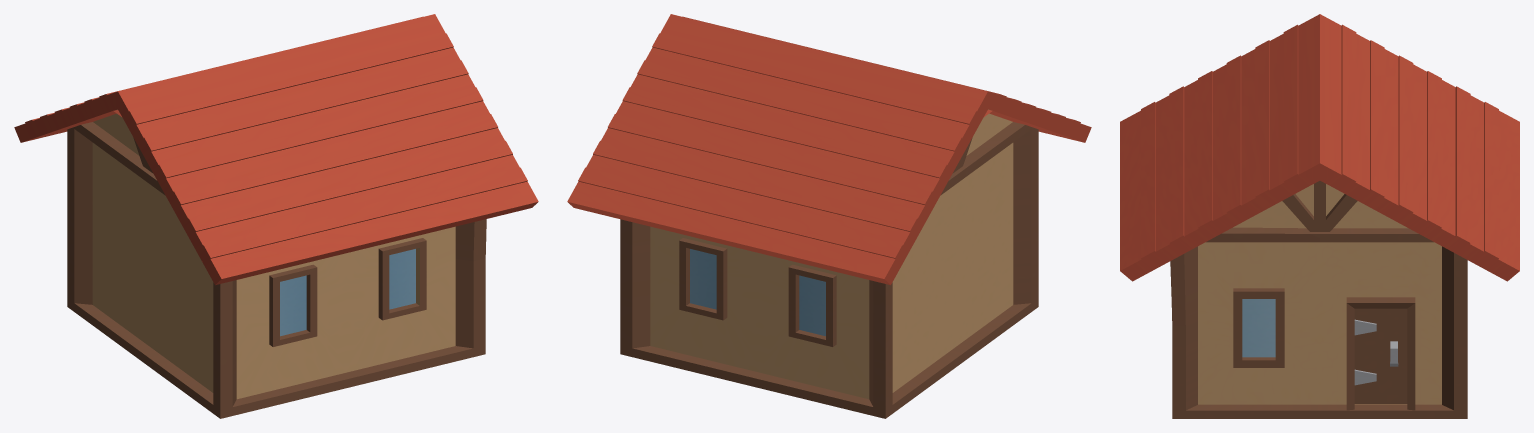
Rendered from Home.fbx.
3 renders of one model, left to right at view 1: azimuth 30°, elevation 25°; view 2: azimuth 150°, elevation 25°; view 3: azimuth 270°, elevation 25°, orthographic. The views are drawn at different scales.
Parts seen in each view (by area): view 1: Cube.001, Cube; view 2: Cube.001, Cube; view 3: Cube.001, Cube, Cube.003.
Part boxes in pixels (x1,y1,x2,y2): Cube.001: [14, 14, 538, 285]; Cube: [67, 109, 486, 418]; Cube.001: [567, 14, 1091, 285]; Cube: [620, 109, 1038, 418]; Cube.001: [1120, 14, 1519, 281]; Cube: [1170, 181, 1467, 418]; Cube.003: [1354, 319, 1376, 385].
Bounding box in the file's own units: 378 × 317 × 428.
